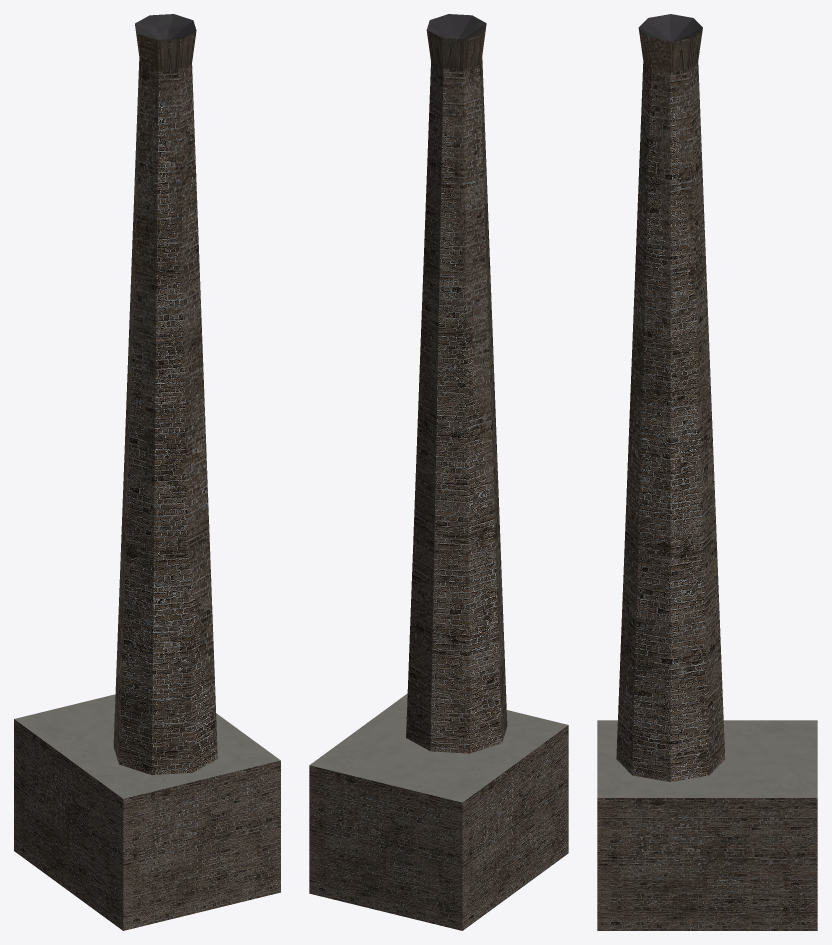
Rendered from factory_chimney-stalk.fbx.
3 views of the same model, side by side, from view 1: azimuth 30°, elevation 25°; view 2: azimuth 150°, elevation 25°; view 3: azimuth 270°, elevation 25° (orthographic). The views are drawn at different scales.
Visible parts, largest first — view 1: factory_chimney-stalk; view 2: factory_chimney-stalk; view 3: factory_chimney-stalk.
Boxes of the visible parts, x1=… form: factory_chimney-stalk: x1=14, y1=14, x2=280, y2=930; factory_chimney-stalk: x1=309, y1=14, x2=568, y2=930; factory_chimney-stalk: x1=597, y1=14, x2=817, y2=930.
Size of the model in its own units: 1000 by 5200 by 1200.
